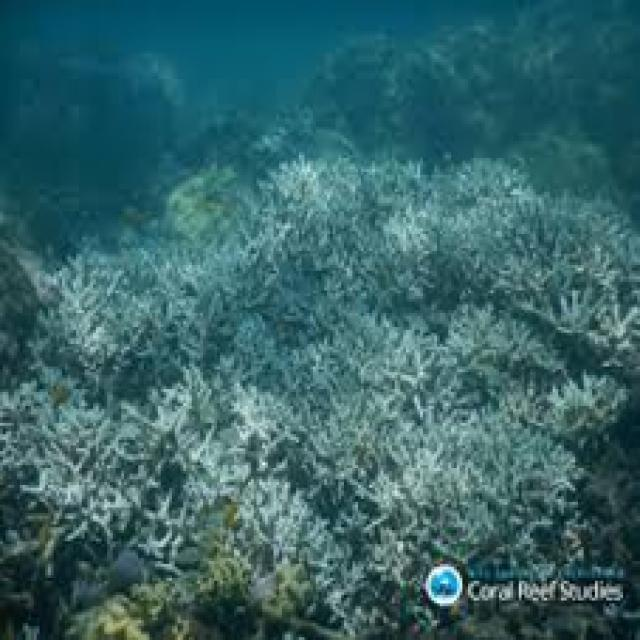Dead Coral: (71, 174, 640, 576)
